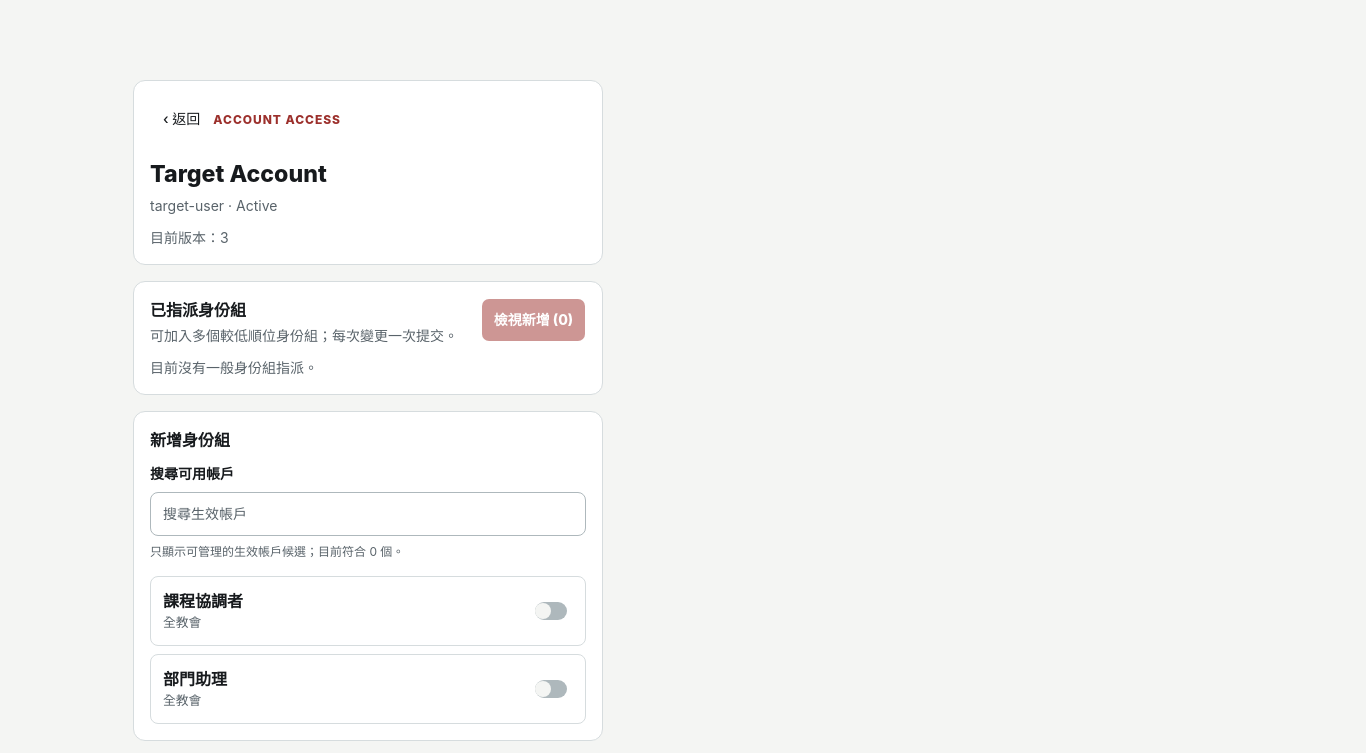
AccountAccessPanel › names duplicate identities in successful feedback
The width and height of the screenshot is (1366, 753).
Click the switch named "新增 課程協調者" at [551, 611], box [529,589,573,633]
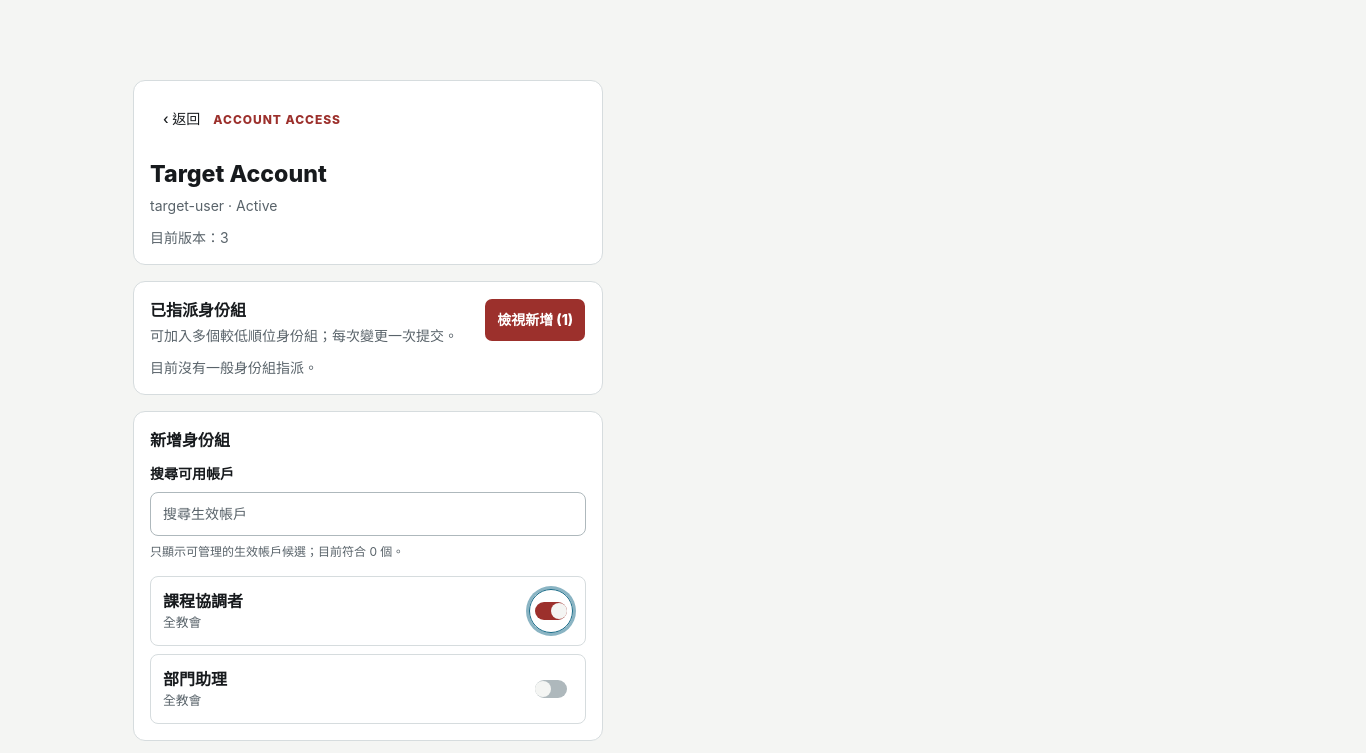
Click the button "檢視新增 (1)" at [535, 320], box [484,298,586,342]
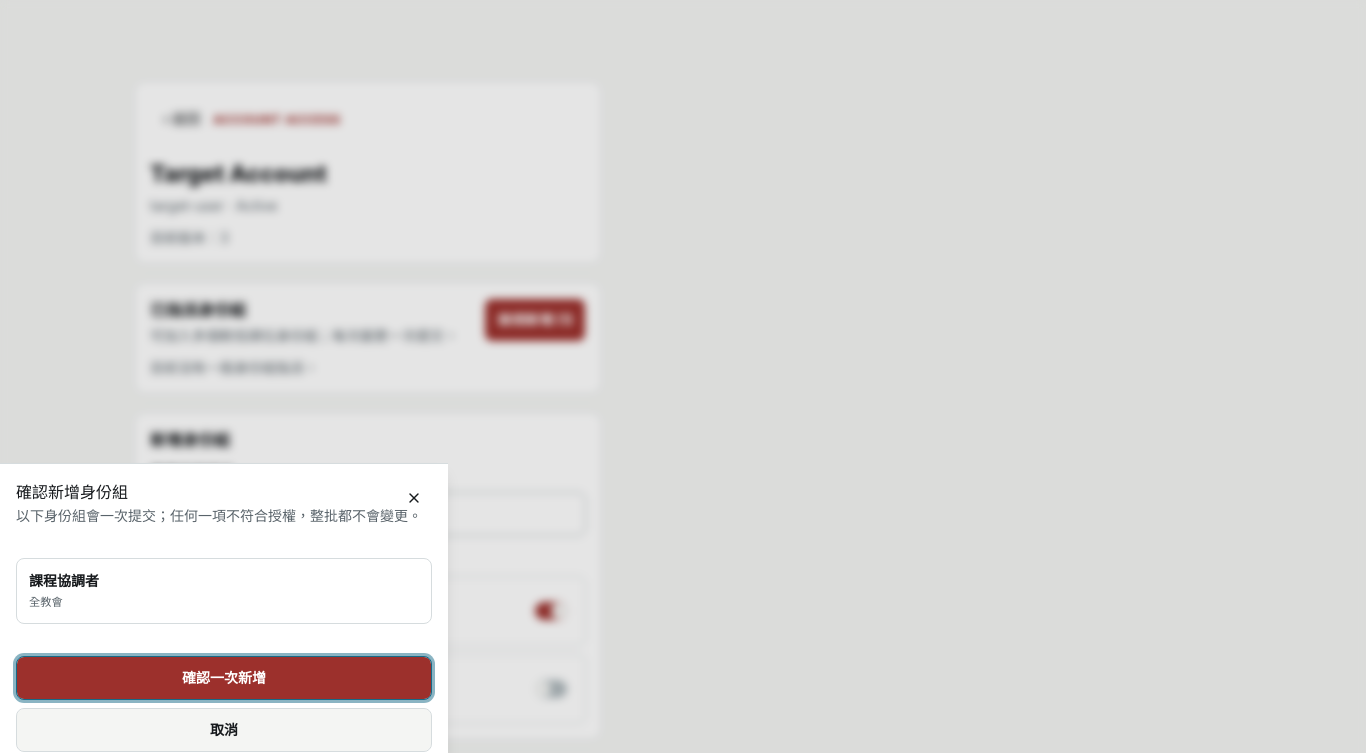
Click the button "確認一次新增" at [224, 678], box [16,656,432,700]
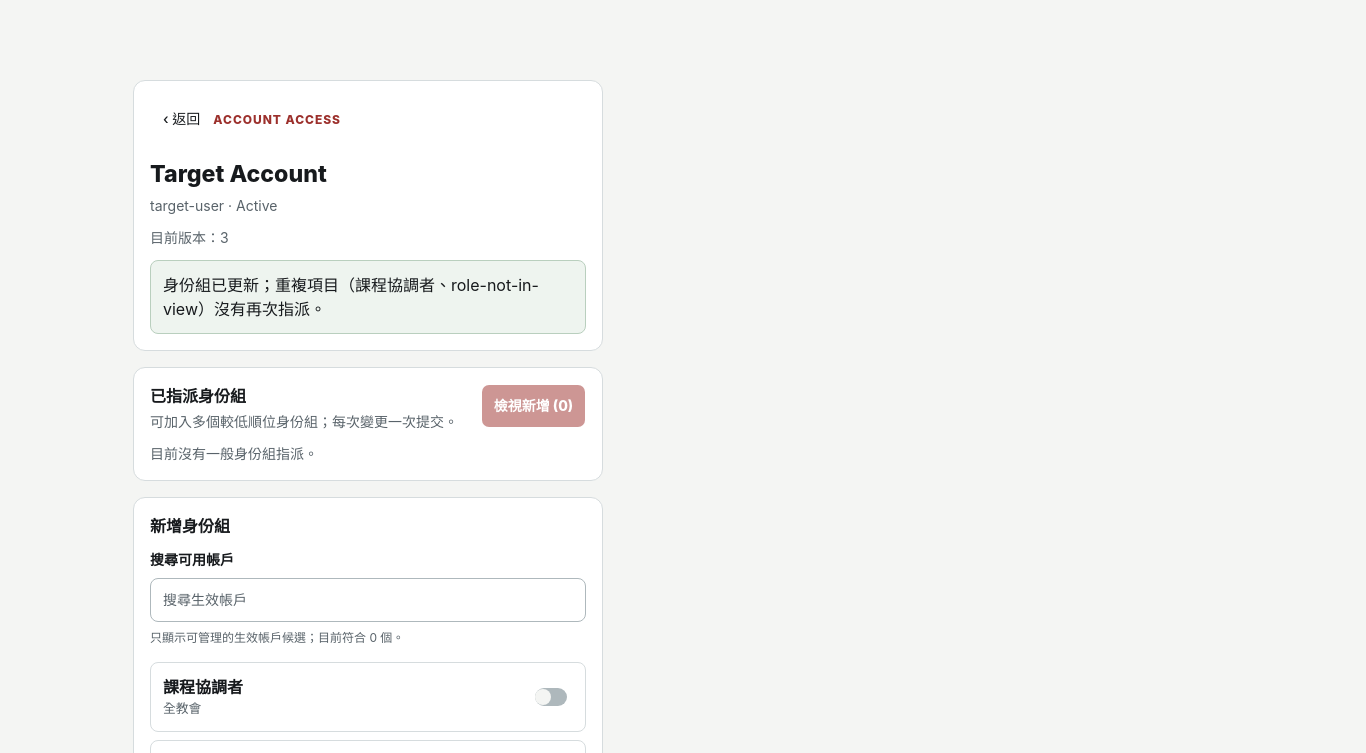
Now the message shows "課程協調者", box [163,275,539,319]
Now the message shows "role-not-in-view", box [163,275,539,319]
